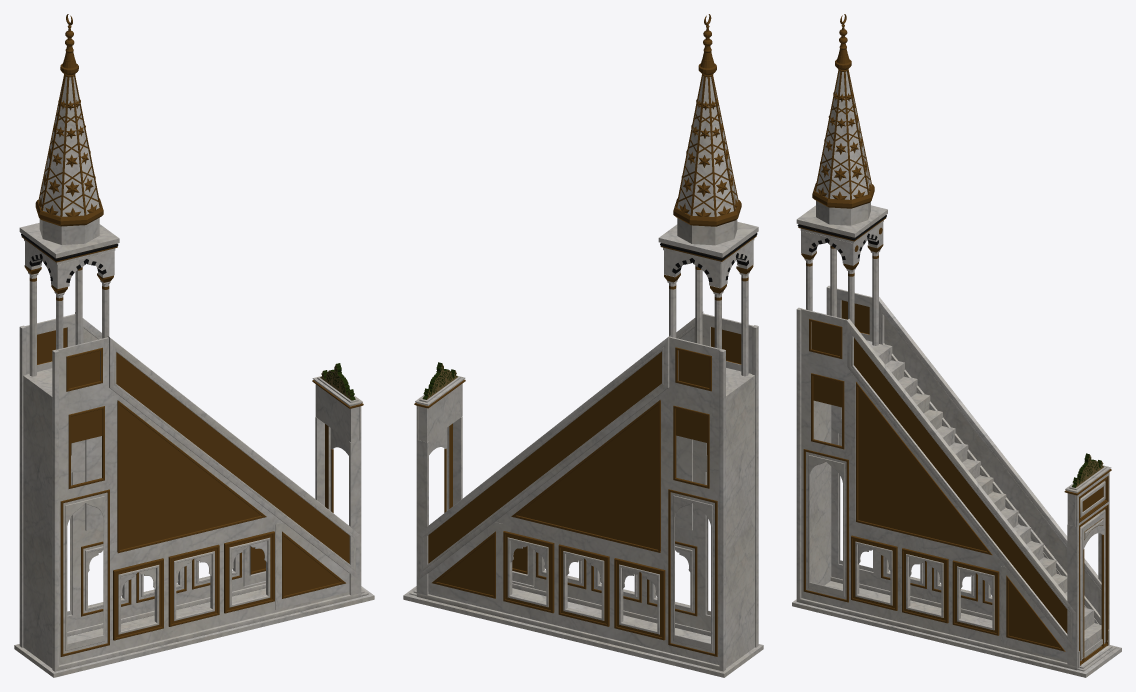
File: Kart07_Minber.FBX
3 views of the same model, side by side, from view 1: azimuth 30°, elevation 25°; view 2: azimuth 150°, elevation 25°; view 3: azimuth 330°, elevation 25° (orthographic). The views are drawn at different scales.
Parts seen in each view (by area): view 1: Marble, OsmanliIsleme, SariMetal, YanIsleme, KoyuParcalar, MinberYazi; view 2: Marble, OsmanliIsleme, SariMetal, YanIsleme, KoyuParcalar, MinberYazi; view 3: Marble, OsmanliIsleme, SariMetal, YanIsleme, KoyuParcalar, MinberYazi.
Boxes of the visible parts, x1=… form: Marble: x1=14, y1=76, x2=374, y2=677; OsmanliIsleme: x1=37, y1=327, x2=349, y2=595; SariMetal: x1=21, y1=14, x2=363, y2=656; YanIsleme: x1=71, y1=409, x2=102, y2=443; KoyuParcalar: x1=21, y1=233, x2=118, y2=282; MinberYazi: x1=320, y1=363, x2=355, y2=400; Marble: x1=403, y1=76, x2=763, y2=677; OsmanliIsleme: x1=428, y1=327, x2=741, y2=595; SariMetal: x1=414, y1=14, x2=756, y2=656; YanIsleme: x1=675, y1=408, x2=707, y2=442; KoyuParcalar: x1=660, y1=233, x2=757, y2=281; MinberYazi: x1=422, y1=362, x2=457, y2=399; Marble: x1=792, y1=71, x2=1121, y2=677; OsmanliIsleme: x1=811, y1=300, x2=1067, y2=647; SariMetal: x1=798, y1=14, x2=1111, y2=665; YanIsleme: x1=813, y1=376, x2=841, y2=407; KoyuParcalar: x1=797, y1=215, x2=886, y2=259; MinberYazi: x1=1072, y1=453, x2=1104, y2=487.
Bounding box in the file's own units: 318 × 605 × 67.43.
